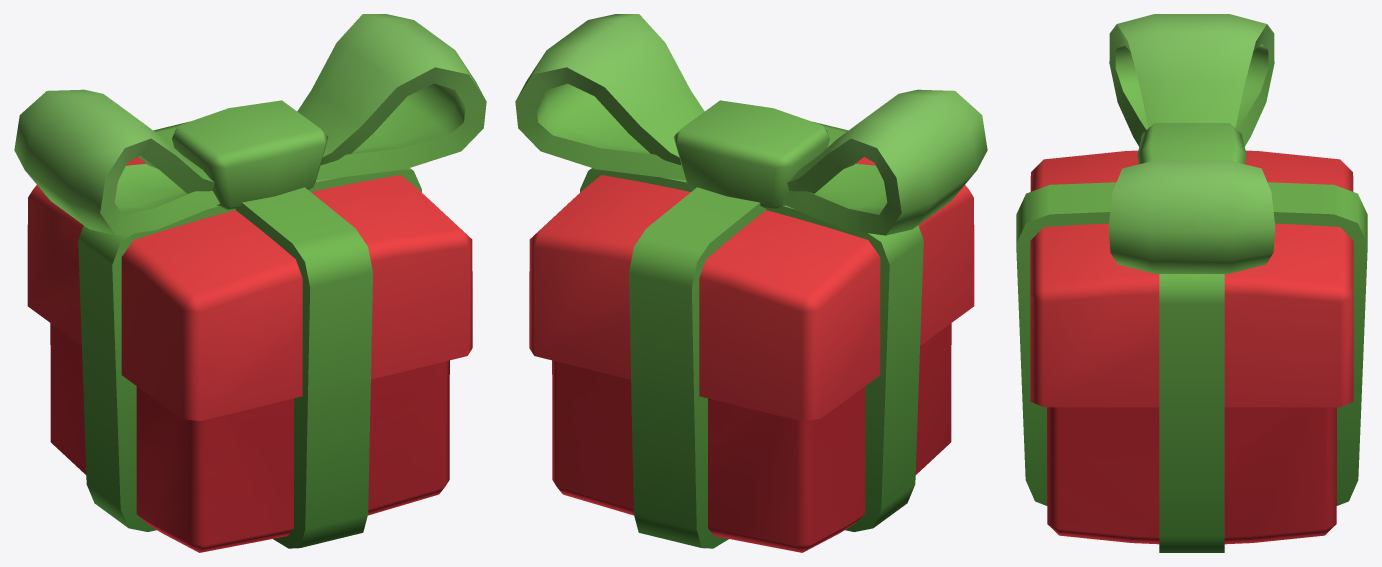
The model's file is Present_003.fbx.
3 renders of one model, left to right at view 1: azimuth 30°, elevation 25°; view 2: azimuth 150°, elevation 25°; view 3: azimuth 270°, elevation 25°, orthographic. The views are drawn at different scales.
Visible parts, largest first — view 1: Present_003; view 2: Present_003; view 3: Present_003.
Boxes of the visible parts, left/top/right/bottom form: Present_003: left=14, top=14, right=486, bottom=552; Present_003: left=515, top=14, right=987, bottom=552; Present_003: left=1016, top=14, right=1367, bottom=552.
Size of the model in its own units: 1.14 by 1.15 by 0.885.
